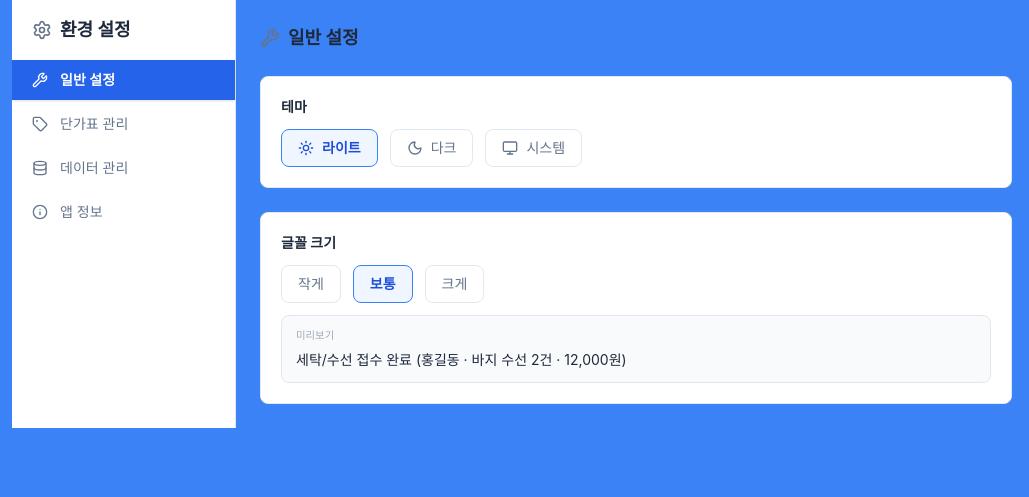
Test: SettingsPage › 카테고리 전환 후 다시 돌아올 수 있다
The width and height of the screenshot is (1029, 497).
What coordinates should you click on to do the following:
click the button "앱 정보"
I would click on:
 (124, 212)
Its box is [12, 192, 235, 232].
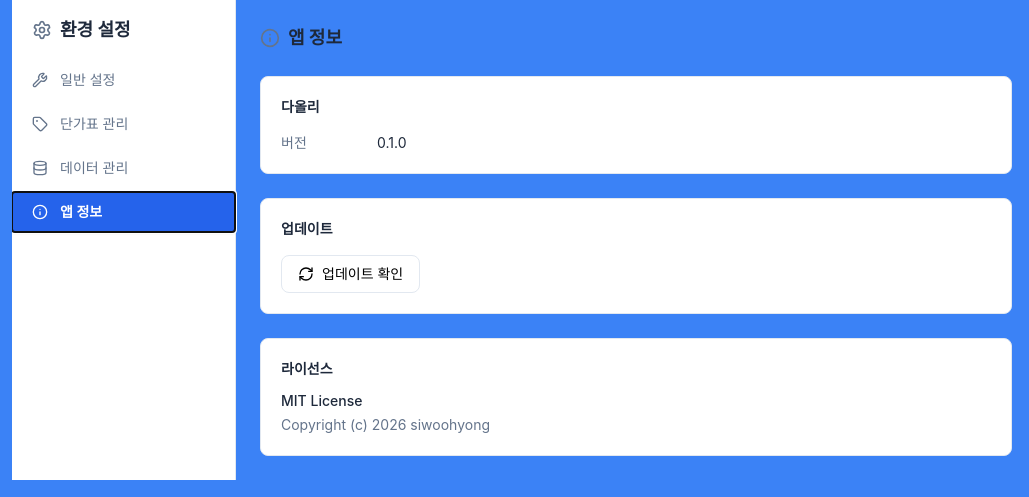
What coordinates should you click on to do the following:
click the button "일반 설정"
I would click on:
 (124, 80)
Its box is [12, 60, 235, 100].
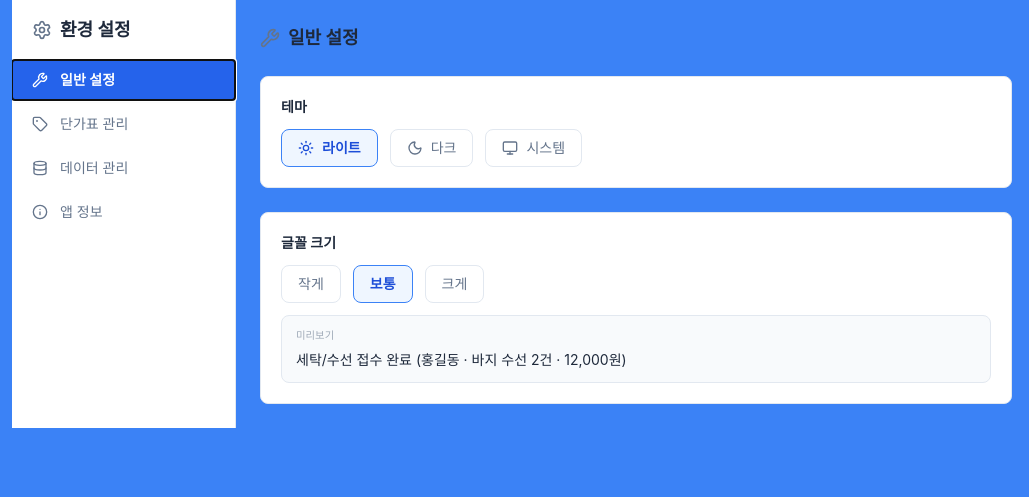
expect the heading "테마" is shown: met, box [281, 98, 307, 115]
expect the text "0.1.0" is gone: met
